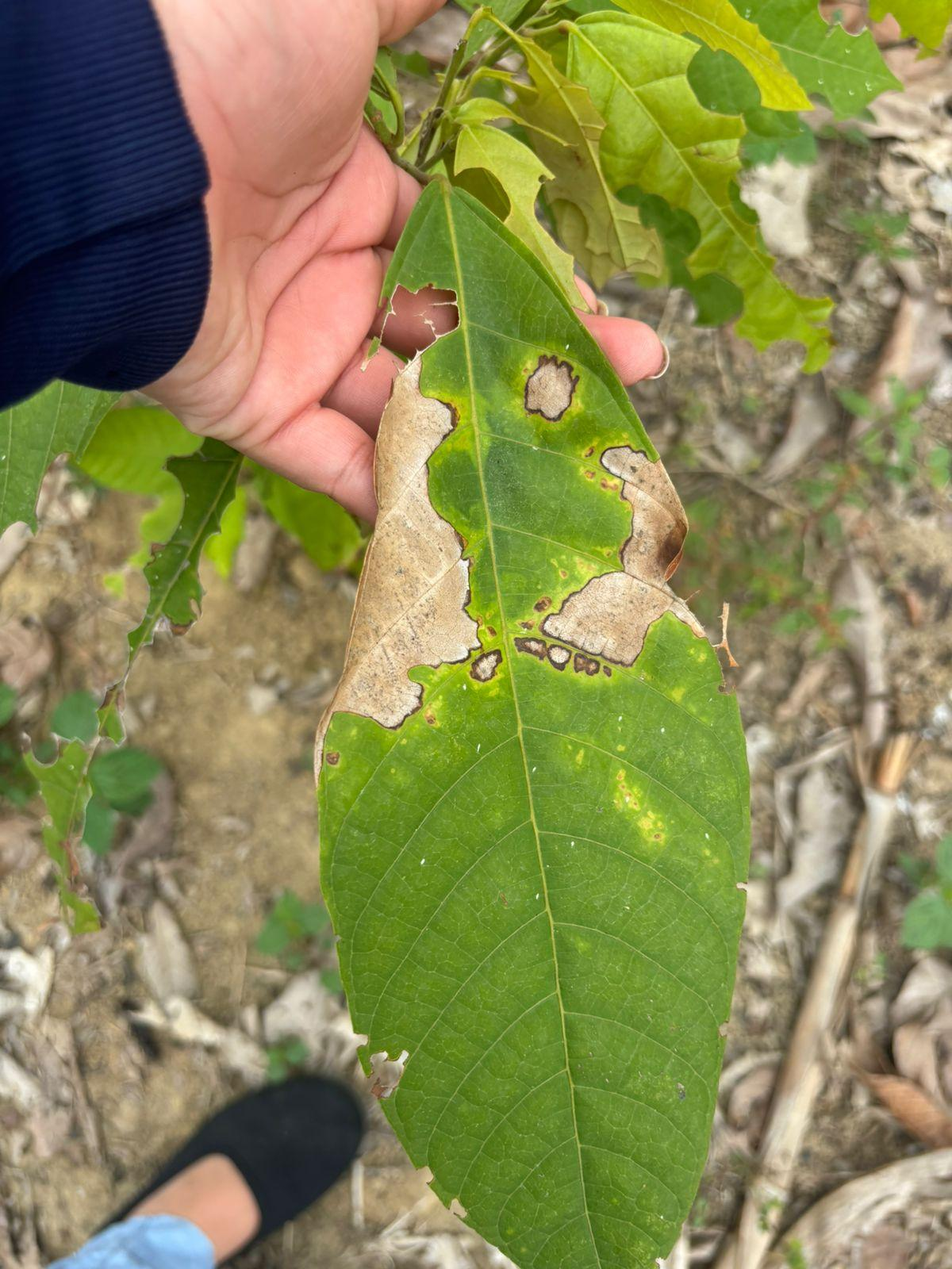Potasio: (318, 182, 748, 1268)
